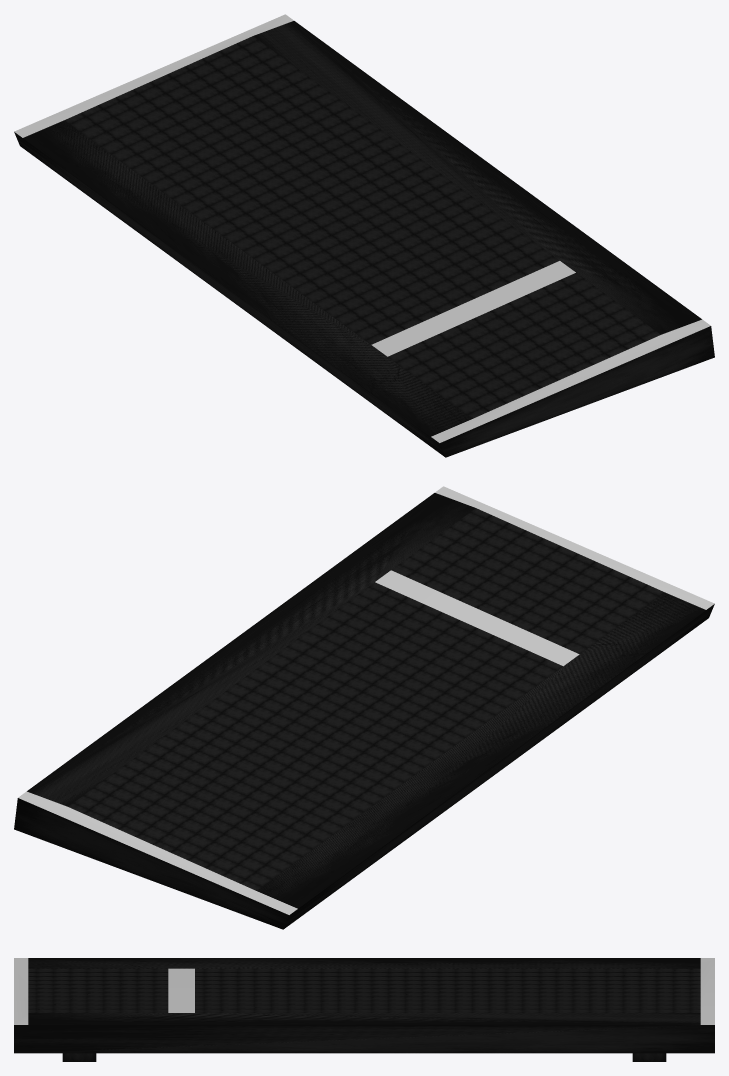
Rendered from Teclado.FBX.
3 views of the same model, one above another, from view 1: azimuth 30°, elevation 25°; view 2: azimuth 150°, elevation 25°; view 3: azimuth 270°, elevation 25° (orthographic). The views are drawn at different scales.
Parts seen in each view (by area): view 1: Teclado; view 2: Teclado; view 3: Teclado, Pata1, Pata2.
Boxes of the visible parts, x1,y1,x2,y2 form: Teclado: (14,14,714,457); Teclado: (14,486,714,929); Teclado: (14,958,714,1053); Pata1: (632,1053,666,1061); Pata2: (62,1053,96,1061).
Size of the model in its own units: 6.15 by 1.54 by 16.46.
